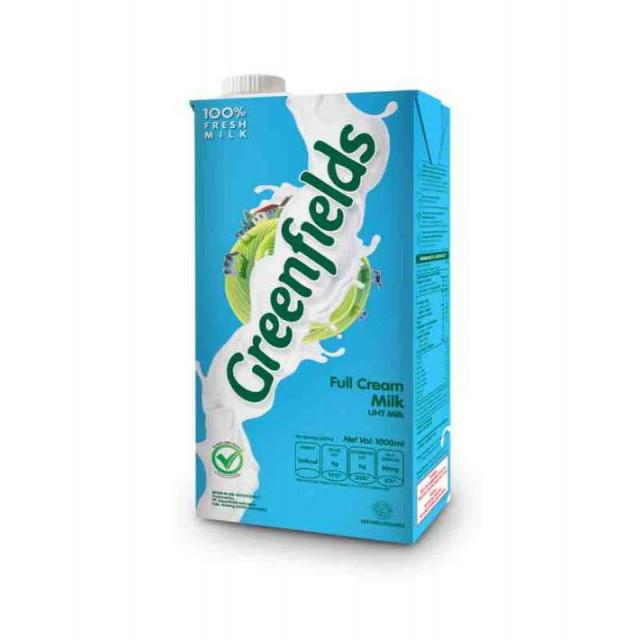non_white_jug: (109, 54, 462, 556)
